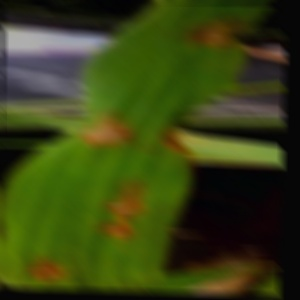Brown_Spot: (181, 8, 251, 62), (78, 99, 135, 156), (98, 168, 147, 218), (23, 248, 71, 289), (91, 219, 144, 253)
